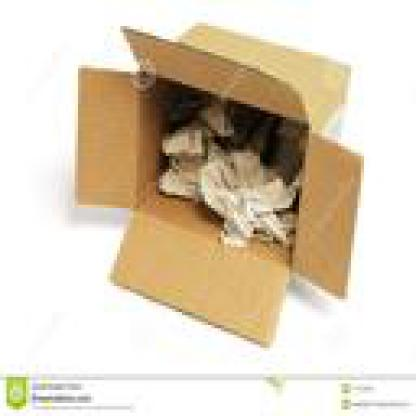CARDBOARD: (72, 22, 364, 344)
PAPER: (195, 146, 296, 244), (156, 123, 214, 195), (186, 98, 240, 136), (260, 120, 296, 172), (228, 113, 266, 150)
